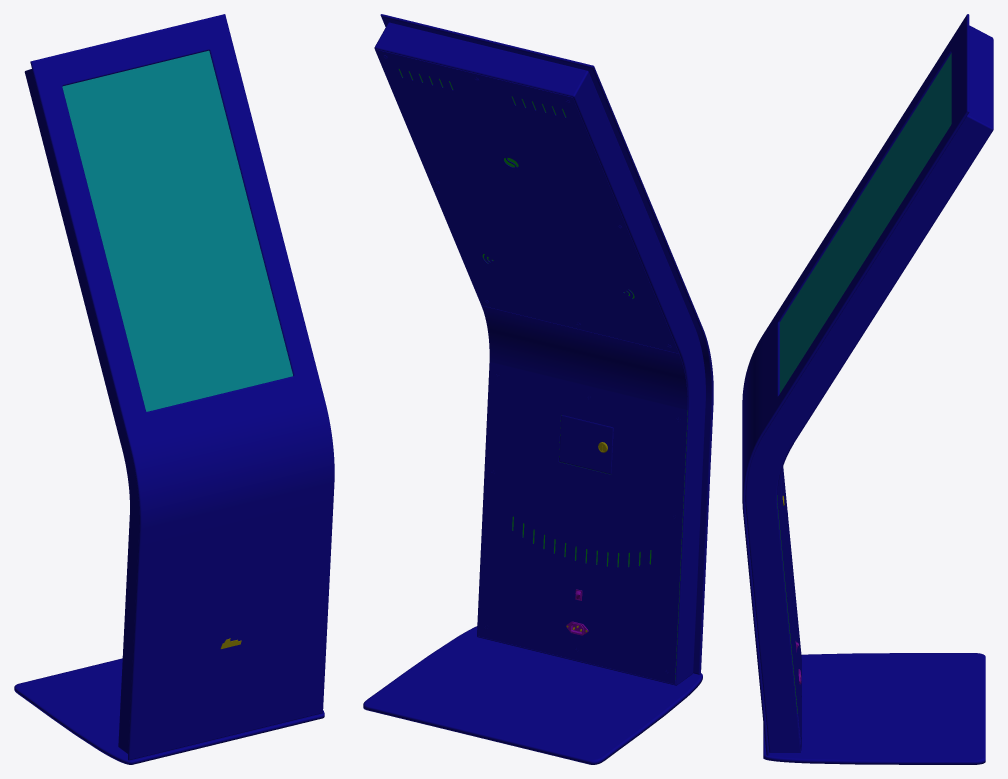
The picture shows the model from 3 angles, left to right: view 1: azimuth 30°, elevation 25°; view 2: azimuth 150°, elevation 25°; view 3: azimuth 270°, elevation 25°; orthographic projection. The views are drawn at different scales.
Visible parts, largest first — view 1: SX_32_vert_LOW2; view 2: SX_32_vert_LOW2; view 3: SX_32_vert_LOW2.
Part boxes in pixels (bbox=[...]): SX_32_vert_LOW2: bbox=[14, 14, 334, 764]; SX_32_vert_LOW2: bbox=[363, 14, 713, 764]; SX_32_vert_LOW2: bbox=[742, 14, 993, 764].
Bounding box in the file's own units: 521 × 1446 × 508.
